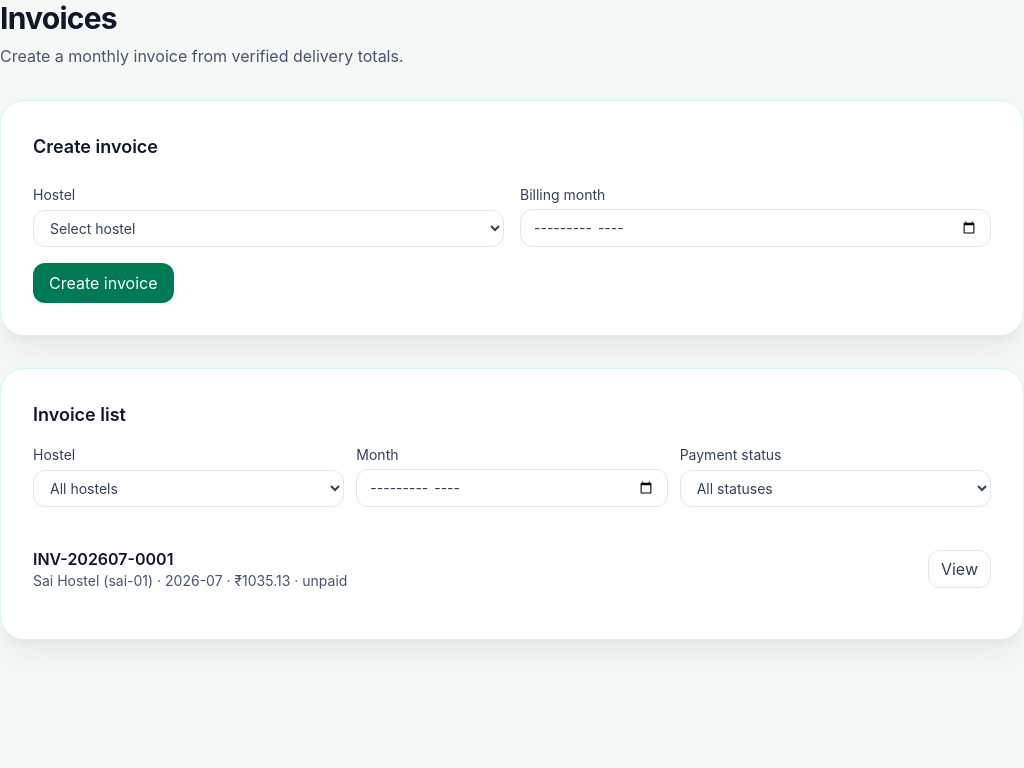
Test: InvoicesPage › lists invoices and opens line-item detail
Check: the text "INV-202607-0001" is shown, box [33, 549, 173, 569]
Click the button "View". click: [960, 569]
box: [928, 550, 991, 588]
(page scrolled)
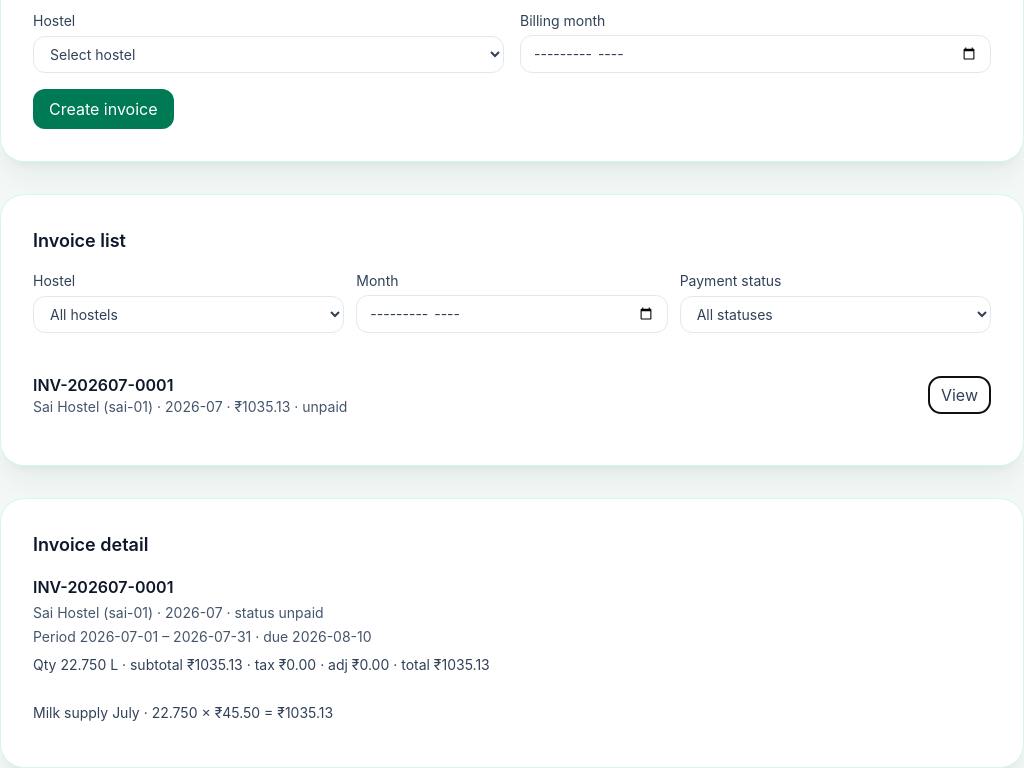
Check: the list item "Milk supply July · 22.750 × ₹45.50 = ₹1035.13" is shown, box [33, 704, 333, 721]
Check: the text "Sai Hostel (sai-01) · 2026-07 · status unpaid" is shown, box [33, 604, 324, 621]
Check: the text "Period 2026-07-01 – 2026-07-31 · due 2026-08-10" is shown, box [33, 628, 372, 645]
